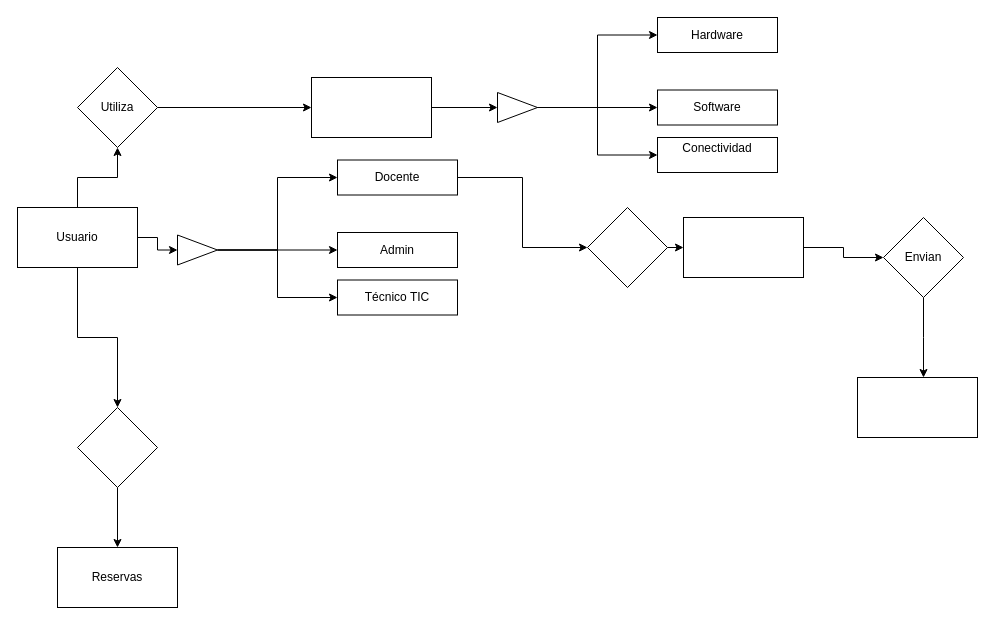
Some shapes in this 995 by 625 pixel diagram are drawn without their labels. The box of each missing label's shape, as (x1, y1, x2, y2) in pixels:
Incidencias: (682, 216, 804, 278)
Notifica: (586, 206, 668, 288)
Notificaciones: (856, 376, 978, 438)
Realiza: (76, 406, 158, 488)
Recursos: (310, 76, 432, 138)
